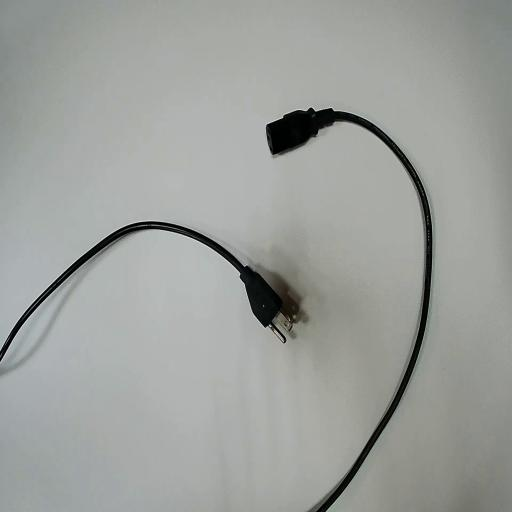wire: (267, 109, 431, 511), (0, 222, 298, 357)
